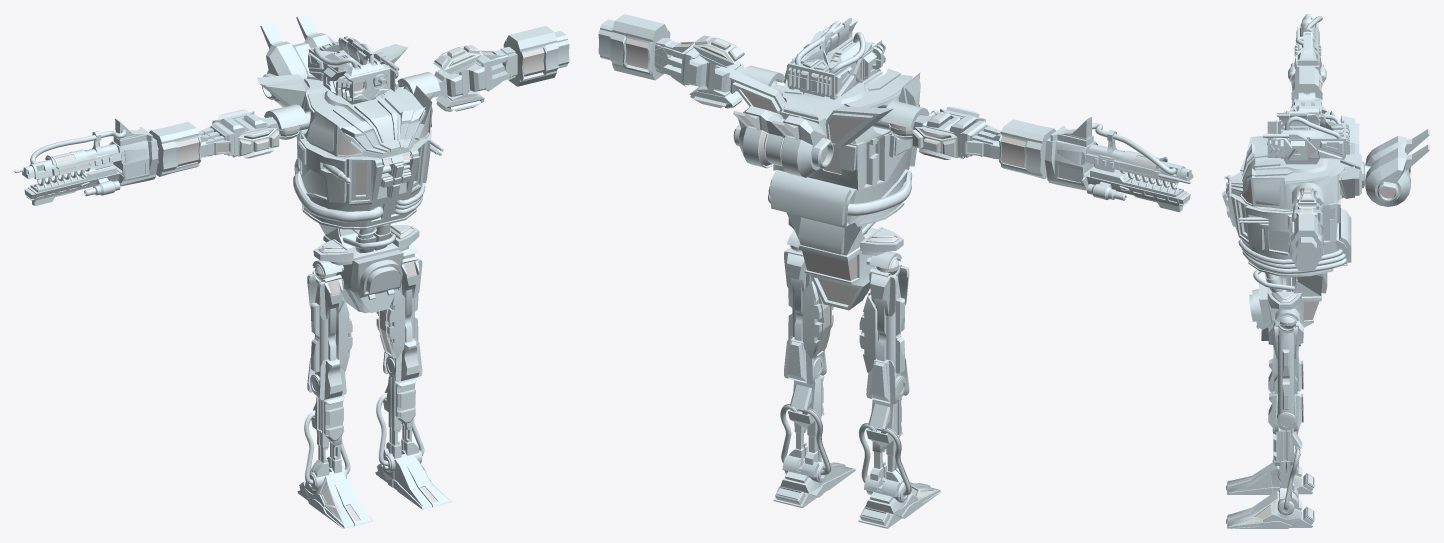
Rendered from Heavyrobot_BC.fbx.
The picture shows the model from 3 angles, left to right: view 1: azimuth 30°, elevation 25°; view 2: azimuth 150°, elevation 25°; view 3: azimuth 270°, elevation 25°; orthographic projection. The views are drawn at different scales.
Visible parts, largest first — view 1: Heavy.Upper chacce.ROT..001, Heavy.Chassis..001, Heavy.railgun, Heavy.Bottom chasse..001, Heavy.Upperleg.R..001, Heavy.Head..001, Heay.Upperleg.L.001, HeavyUpper arm..L..001, Heavy.Upper arm..R..001, Heavy.Lower arms.L001, HeavyLowerlegs.L..001, Heav.Lowerlegs.R..001 (+5 smaller); view 2: Heavy.Upper chacce.ROT..001, Heavy.Chassis..001, Heavy.railgun, Heavy.Bottom chasse..001, Heavy.Upperleg.R..001, Heavy.Head..001, Heay.Upperleg.L.001, HeavyUpper arm..L..001, Heavy.Upper arm..R..001, Heav.Lowerlegs.R..001, HeavyLowerlegs.L..001, Heavy.Lower arms.L001 (+5 smaller); view 3: Heavy.Upper chacce.ROT..001, Heavy.Chassis..001, Heavy.Head..001, Heavy.Bottom chasse..001, Heay.Upperleg.L.001, HeavyFeet.L..001, HeavyLowerlegs.L..001, Heavy.Lower arms.L001, HeavyFeet.R..001, Heavy.railgun, Heavy.Lower arms.R.001, HeavyUpper arm..L..001 (+4 smaller).
Boxes of the visible parts, <box> form: Heavy.Upper chacce.ROT..001: <box>257,14,432,158</box>; Heavy.Chassis..001: <box>293,129,443,229</box>; Heavy.railgun: <box>14,119,158,205</box>; Heavy.Bottom chasse..001: <box>313,223,419,313</box>; Heavy.Upperleg.R..001: <box>307,273,352,400</box>; Heavy.Head..001: <box>308,36,399,104</box>; Heay.Upperleg.L.001: <box>376,258,422,381</box>; HeavyUpper arm..L..001: <box>432,45,515,111</box>; Heavy.Upper arm..R..001: <box>198,109,280,158</box>; Heavy.Lower arms.L001: <box>502,26,569,86</box>; HeavyLowerlegs.L..001: <box>376,375,424,472</box>; Heav.Lowerlegs.R..001: <box>304,395,350,490</box>; Heavy.Upper chacce.ROT..001: <box>729,57,920,177</box>; Heavy.Chassis..001: <box>768,110,938,226</box>; Heavy.railgun: <box>1044,117,1193,212</box>; Heavy.Bottom chasse..001: <box>786,212,903,310</box>; Heavy.Upperleg.R..001: <box>859,265,909,404</box>; Heavy.Head..001: <box>787,18,885,99</box>; Heay.Upperleg.L.001: <box>784,249,833,383</box>; HeavyUpper arm..L..001: <box>654,35,745,108</box>; Heavy.Upper arm..R..001: <box>911,107,1001,159</box>; Heav.Lowerlegs.R..001: <box>858,396,911,502</box>; HeavyLowerlegs.L..001: <box>780,375,830,482</box>; Heavy.Lower arms.L001: <box>598,14,672,80</box>; Heavy.Upper chacce.ROT..001: <box>1231,115,1429,209</box>; Heavy.Chassis..001: <box>1222,171,1351,276</box>; Heavy.Head..001: <box>1263,111,1349,164</box>; Heavy.Bottom chasse..001: <box>1249,270,1327,346</box>; Heay.Upperleg.L.001: <box>1268,319,1303,431</box>; HeavyFeet.L..001: <box>1226,491,1314,528</box>; HeavyLowerlegs.L..001: <box>1272,427,1302,515</box>; Heavy.Lower arms.L001: <box>1288,214,1323,270</box>; HeavyFeet.R..001: <box>1226,463,1314,494</box>; Heavy.railgun: <box>1288,14,1326,82</box>; Heavy.Lower arms.R.001: <box>1291,67,1322,107</box>; HeavyUpper arm..L..001: <box>1292,187,1322,224</box>.
Size of the model in its own units: 2.21 by 1.72 by 0.8247.
